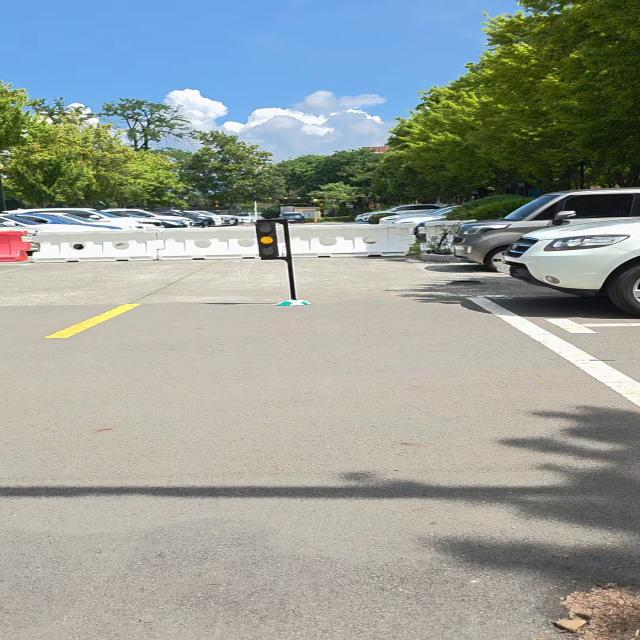yellow: (254, 222, 280, 258)
